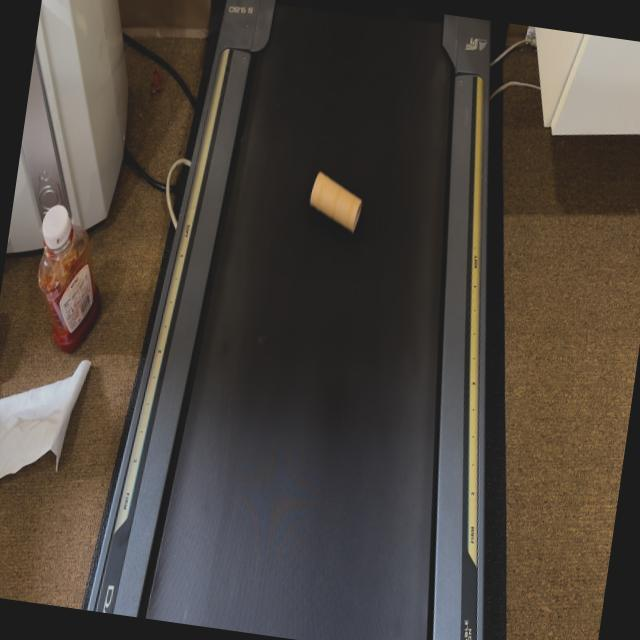Recycle: (304, 167, 367, 236)
